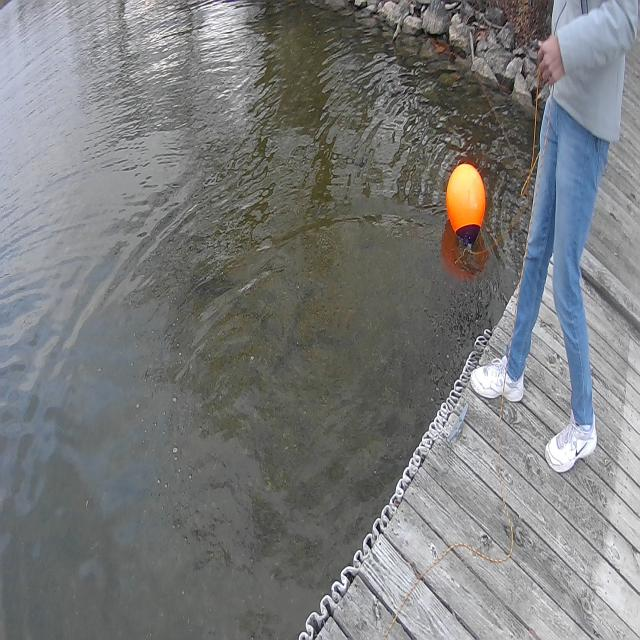Buoy: (444, 146, 491, 252)
